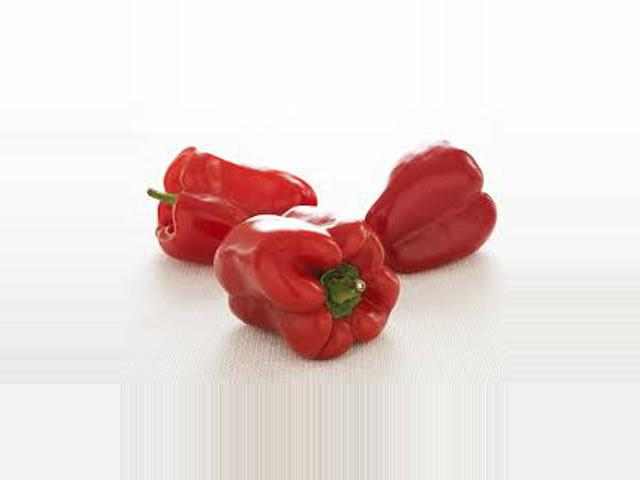bell_pepper: (371, 141, 503, 278)
